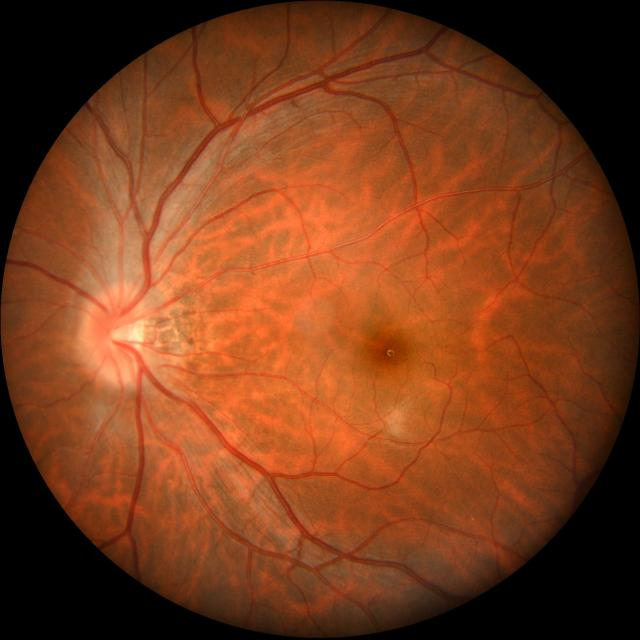OC: (109, 321, 136, 349)
OD: (86, 287, 148, 384)
